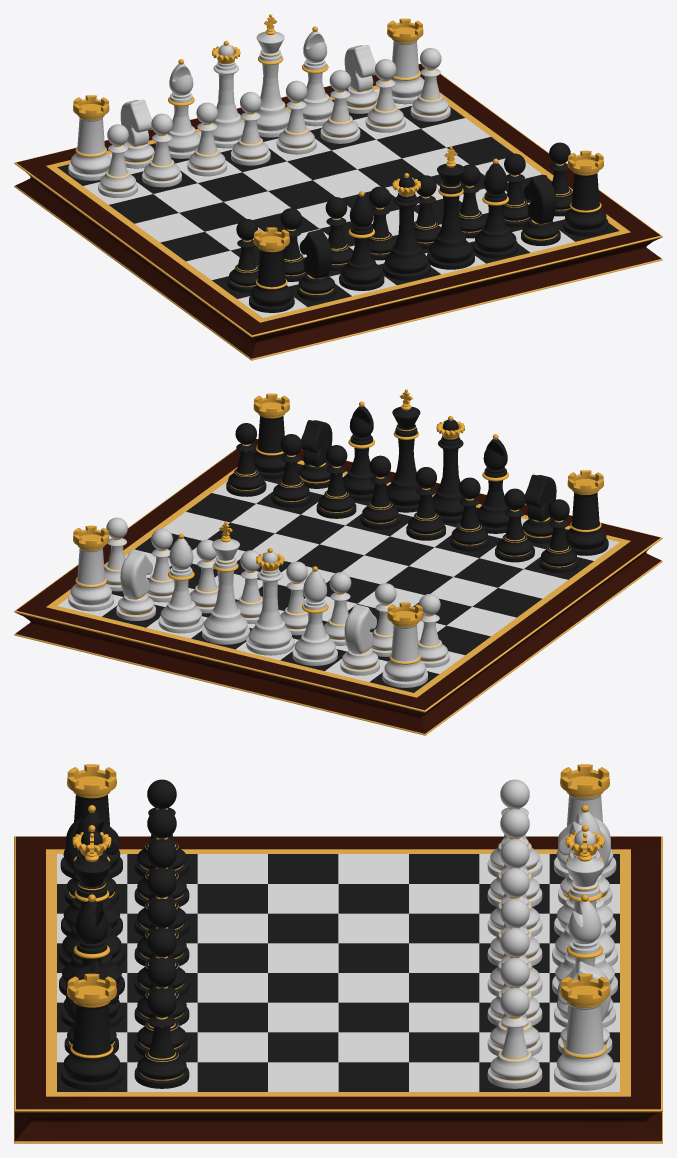
File: chess-interactive.glb
3 renders of one model, top to bottom at view 1: azimuth 30°, elevation 25°; view 2: azimuth 150°, elevation 25°; view 3: azimuth 270°, elevation 25°, orthographic. The views are drawn at different scales.
Parts seen in each view (by area): view 1: Plane, Circle.029, Circle.035, Circle.036, Circle.026, Circle.031, Circle.008, Circle.027, Circle.028, Circle.001, Circle.007, Circle.032 (+21 smaller); view 2: Plane, Circle.008, Circle.007, Circle.031, Circle.001, Circle.036, Circle.029, Circle.003, Circle.032, Circle.026, Circle.035, Circle.028 (+21 smaller); view 3: Plane, Circle.001, Circle.026, Circle.018, Circle.024, Circle.036, Circle.031, Circle.008, Circle.029, Circle.027, Circle.003, Circle.017 (+21 smaller).
Boxes of the visible parts, x1,y1,x2,y2 form: Plane: (14,63,662,360); Circle.029: (427,146,474,269); Circle.035: (382,173,430,280); Circle.036: (249,227,294,312); Circle.026: (563,150,608,236); Circle.031: (68,95,111,180); Circle.008: (256,14,290,137); Circle.027: (473,158,518,258); Circle.028: (339,191,384,290); Circle.001: (387,18,424,104); Circle.007: (212,40,244,148); Circle.032: (167,59,200,158); Plane: (14,438,662,735); Circle.008: (202,521,249,644); Circle.007: (246,548,294,655); Circle.031: (382,602,427,687); Circle.001: (68,525,113,611); Circle.036: (565,470,608,555); Circle.029: (386,389,420,512); Circle.003: (158,533,203,633); Circle.032: (292,566,337,665); Circle.026: (252,393,289,479); Circle.035: (432,415,464,523); Circle.028: (476,434,509,533); Plane: (14,836,662,1143); Circle.001: (554,973,616,1090); Circle.026: (60,973,122,1090); Circle.018: (134,988,189,1088); Circle.024: (487,988,542,1088); Circle.036: (60,764,122,878); Circle.031: (554,764,616,878); Circle.008: (552,833,617,995); Circle.029: (59,833,124,995); Circle.027: (61,894,122,1027); Circle.003: (554,894,615,1027); Circle.017: (134,958,189,1055).
Size of the model in its own units: 331 by 106 by 331.
